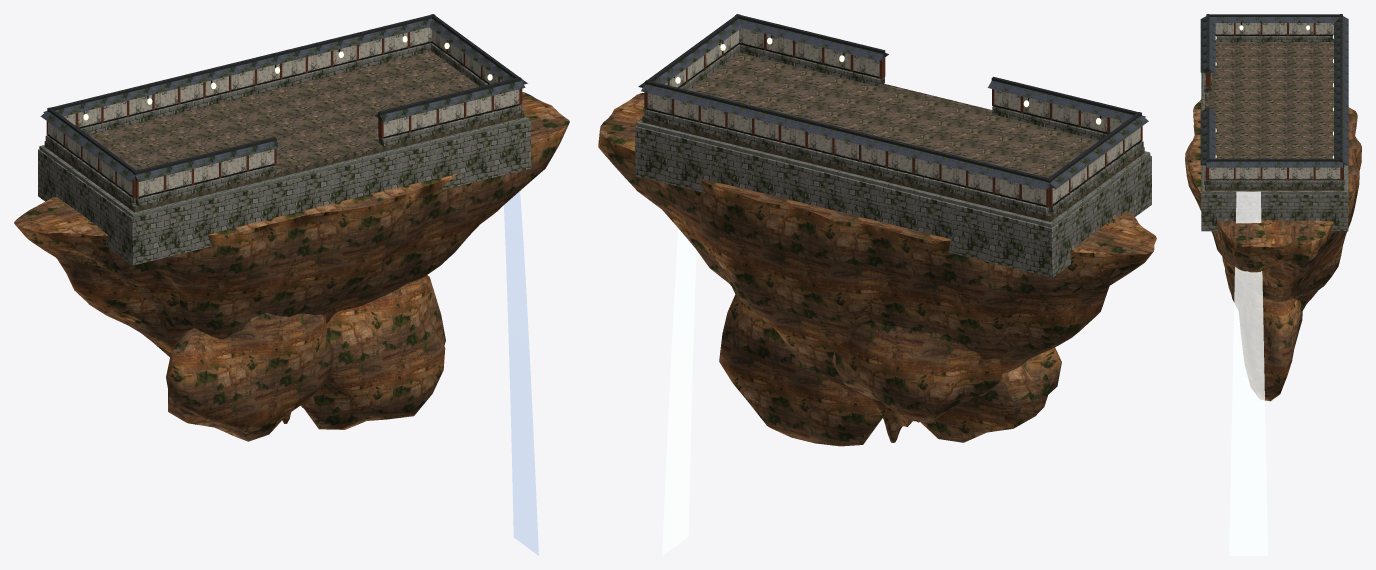
File: Room_BossHall.fbx
The picture shows the model from 3 angles, left to right: view 1: azimuth 30°, elevation 25°; view 2: azimuth 150°, elevation 25°; view 3: azimuth 270°, elevation 25°; orthographic projection. The views are drawn at different scales.
Parts seen in each view (by area): view 1: BossHall_Structure_LOD0, BossHall_Rock_LOD0, Waterfall_4; view 2: BossHall_Rock_LOD0, BossHall_Structure_LOD0, Waterfall_4; view 3: BossHall_Structure_LOD0, BossHall_Rock_LOD0, Waterfall_4.
Part boxes in pixels (x1,y1,x2,y2): BossHall_Structure_LOD0: [38, 14, 530, 265]; BossHall_Rock_LOD0: [14, 92, 569, 441]; Waterfall_4: [503, 191, 538, 555]; BossHall_Rock_LOD0: [598, 93, 1156, 446]; BossHall_Structure_LOD0: [635, 14, 1151, 277]; Waterfall_4: [662, 228, 696, 555]; BossHall_Structure_LOD0: [1200, 14, 1348, 231]; BossHall_Rock_LOD0: [1185, 99, 1361, 401]; Waterfall_4: [1229, 191, 1268, 555].
Size of what is drawn, in the model's own units: 53.9 by 48.65 by 20.3.
